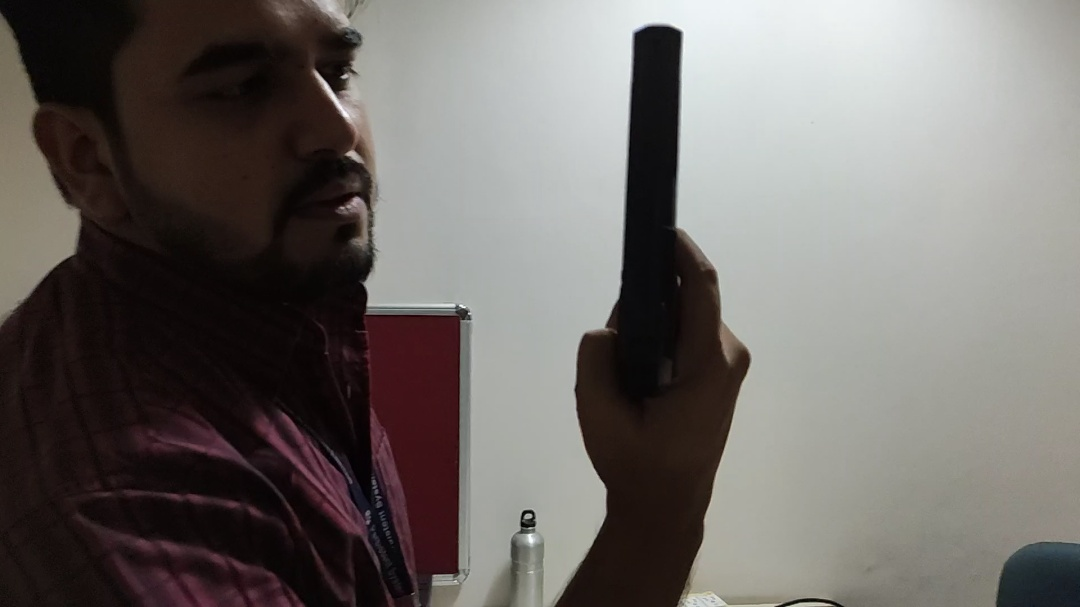gun: (595, 6, 704, 438)
